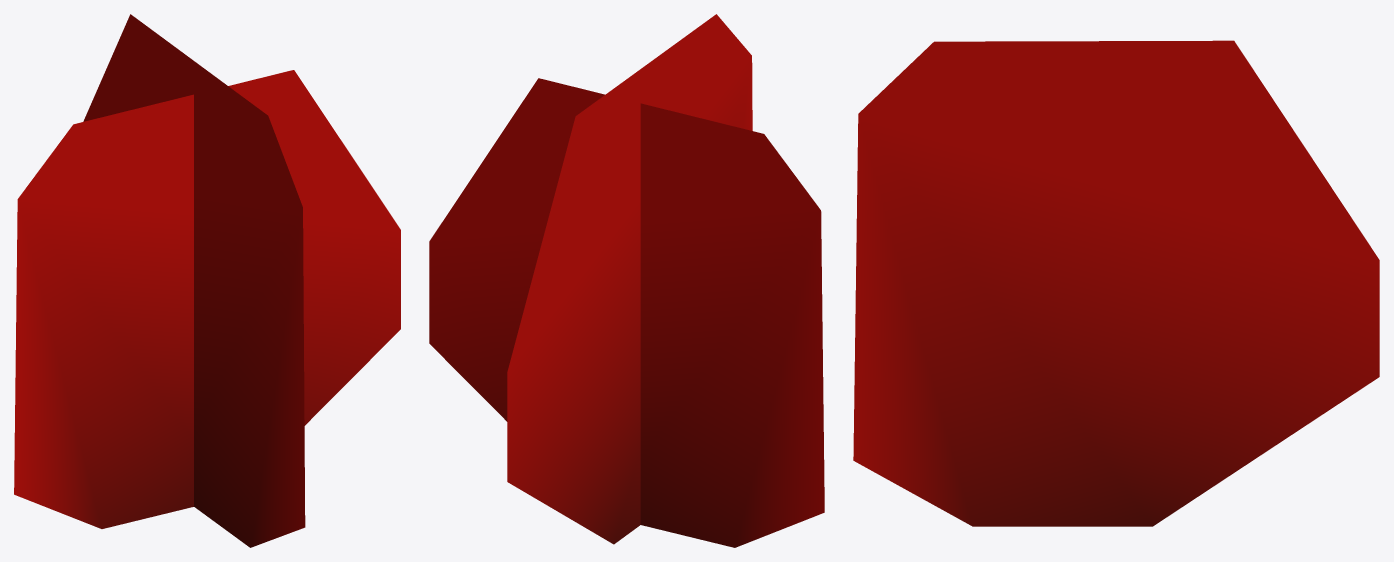
The model's file is bush_1_small.glb.
3 views of the same model, side by side, from view 1: azimuth 30°, elevation 25°; view 2: azimuth 150°, elevation 25°; view 3: azimuth 270°, elevation 25° (orthographic). The views are drawn at different scales.
Parts seen in each view (by area): view 1: Bush_1_small; view 2: Bush_1_small; view 3: Bush_1_small.
Part boxes in pixels (x1,y1,x2,y2): Bush_1_small: (14,14,400,547); Bush_1_small: (429,14,824,547); Bush_1_small: (853,40,1379,526).
Bounding box in the file's own units: 0.3166 × 0.349 × 0.3424.
